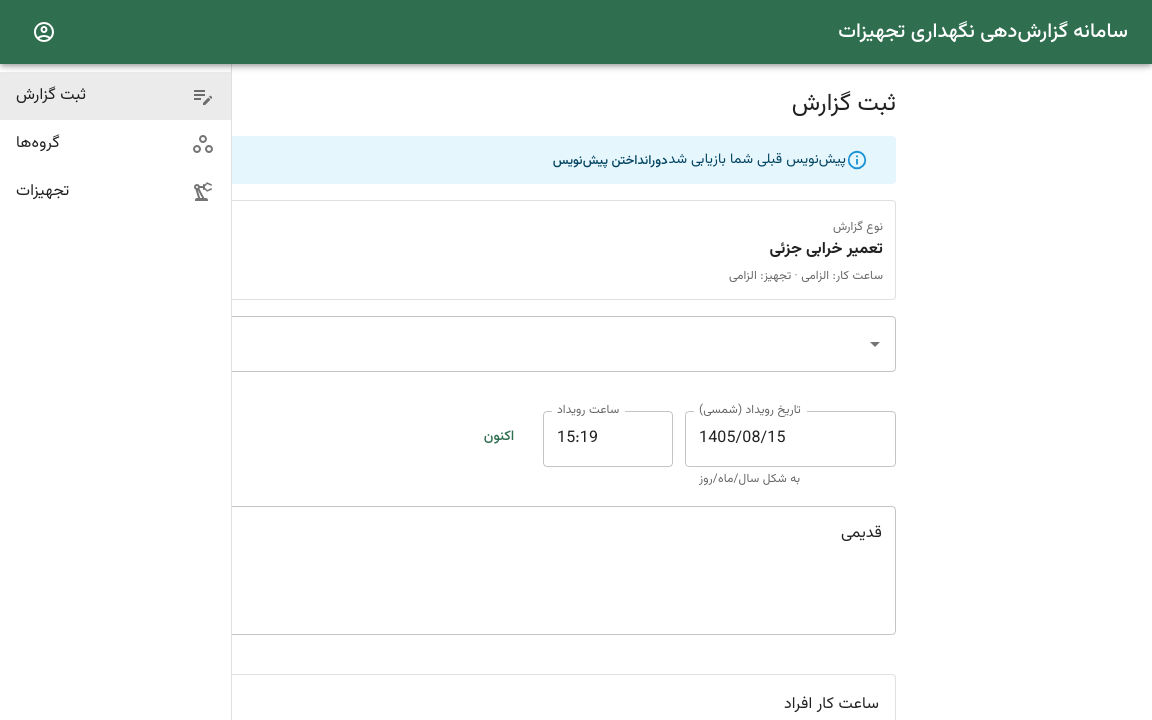
Test case: fixes found in Amin's PC test › discarding the restored draft needs ONE click: the old text and banner are gone at once (no stale data while reloading)
The image size is (1152, 720).
Click the button "دورانداختن پیش‌نویس": (610, 161) [548, 146, 672, 177]
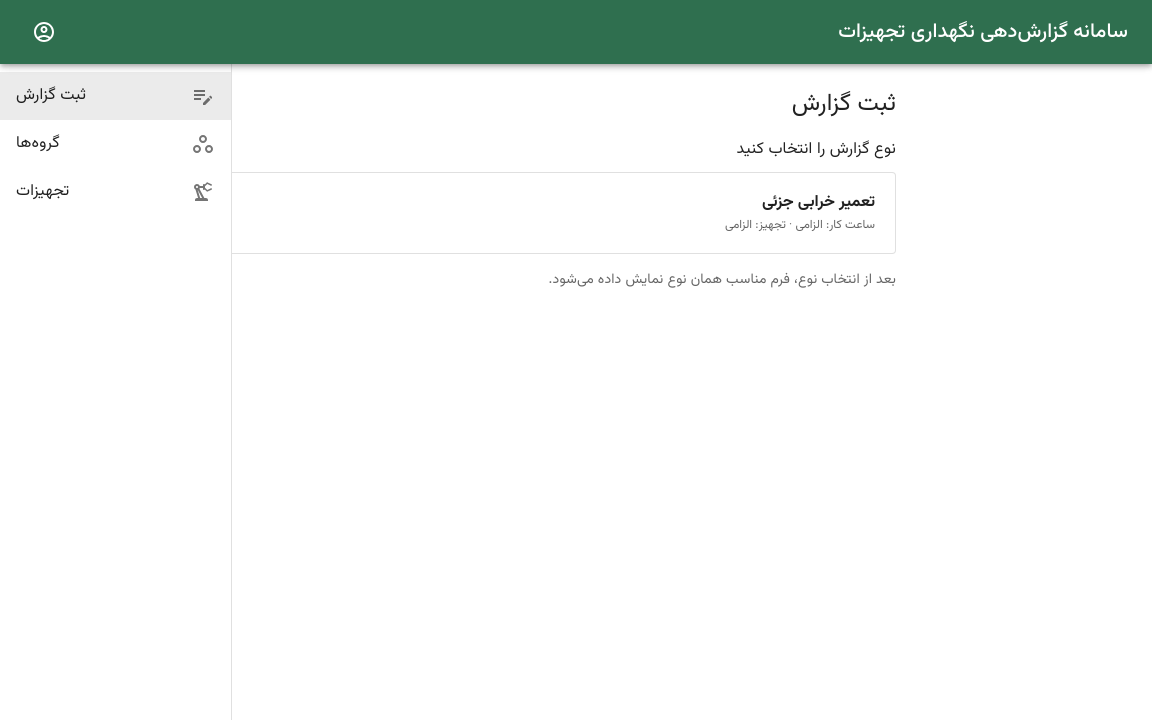
Expected: the label labelled "شرح گزارش" is not shown
Expected: the element "نوع گزارش" is shown, [24, 136, 896, 254]
Expected: the text "پیش‌نویس قبلی شما بازیابی شد." is gone
